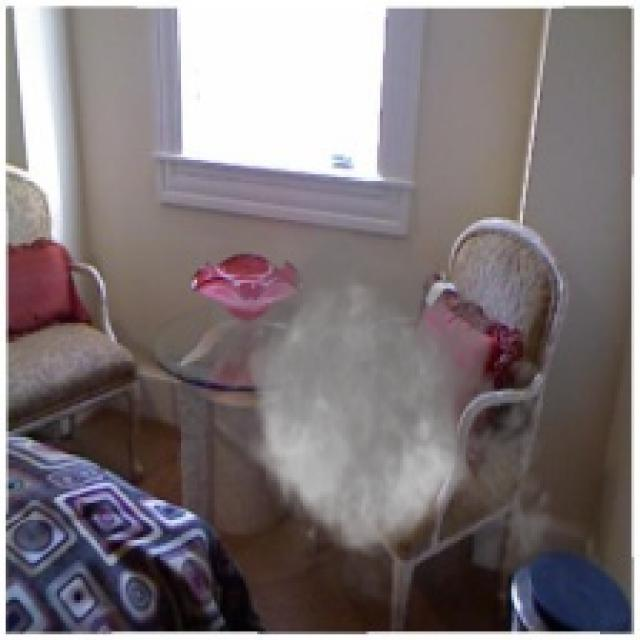smoke: (197, 203, 563, 628)
